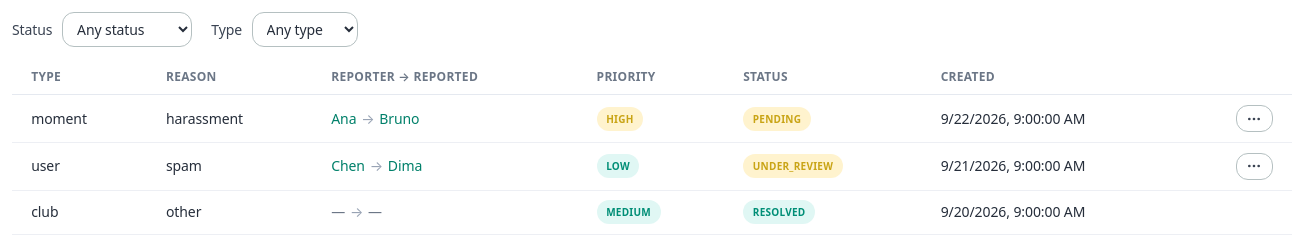
it: offers no Start review on a report already under review
Click the button named "Report actions" in the row of "user".
click(1254, 166)  # box top-left (1236, 153), bottom-right (1273, 180)
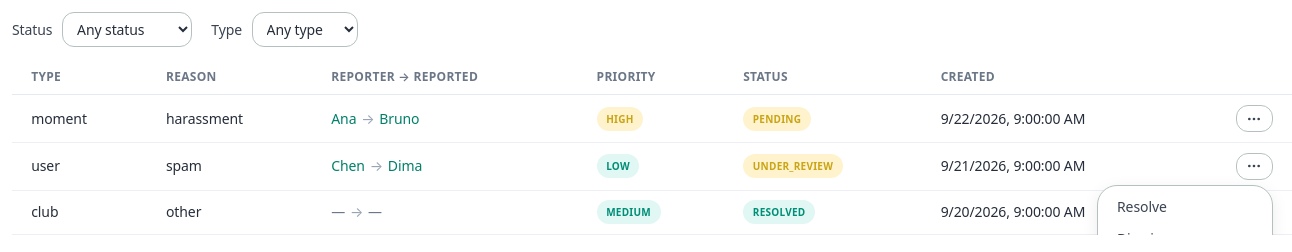
Check: the menu item with test id "report-resolve-r2" is shown, box top-left (1098, 191), bottom-right (1272, 223)
